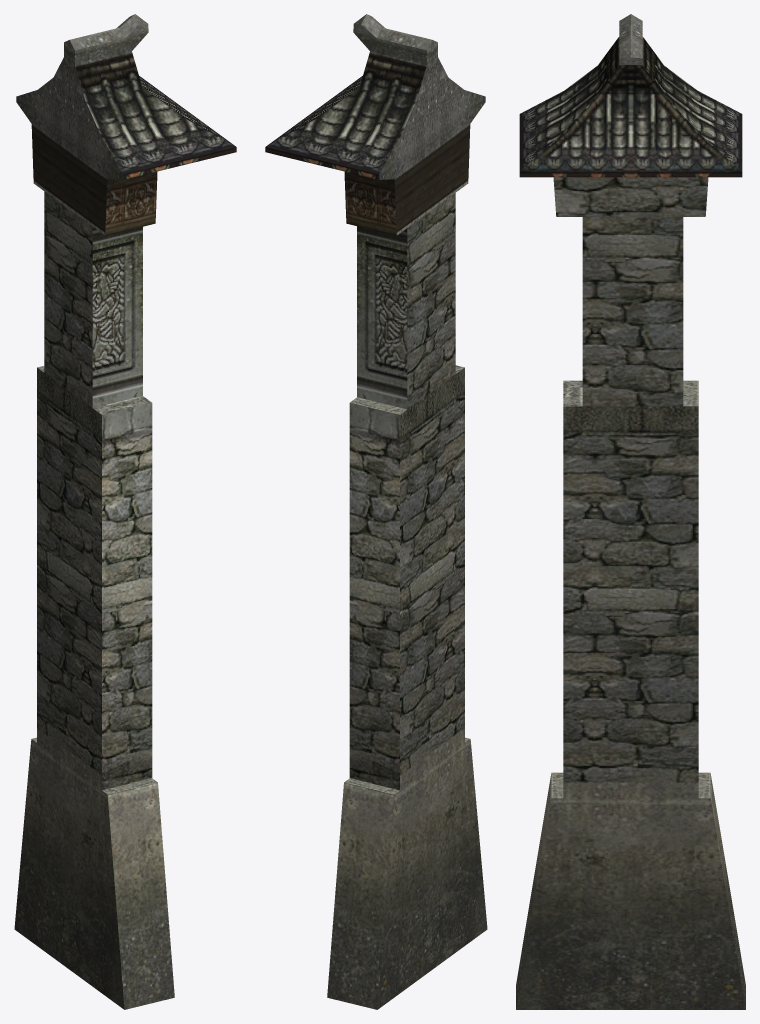
The model's file is b1-middledam-06.fbx.
3 views of the same model, side by side, from view 1: azimuth 30°, elevation 25°; view 2: azimuth 150°, elevation 25°; view 3: azimuth 270°, elevation 25° (orthographic). The views are drawn at different scales.
Visible parts, largest first — view 1: b1-middledam-02; view 2: b1-middledam-02; view 3: b1-middledam-02.
Part boxes in pixels (<box>): b1-middledam-02: <box>14,14,236,1009</box>; b1-middledam-02: <box>265,14,487,1009</box>; b1-middledam-02: <box>516,14,745,1009</box>.
Bounding box in the file's own units: 1.01 × 8.01 × 1.7.
